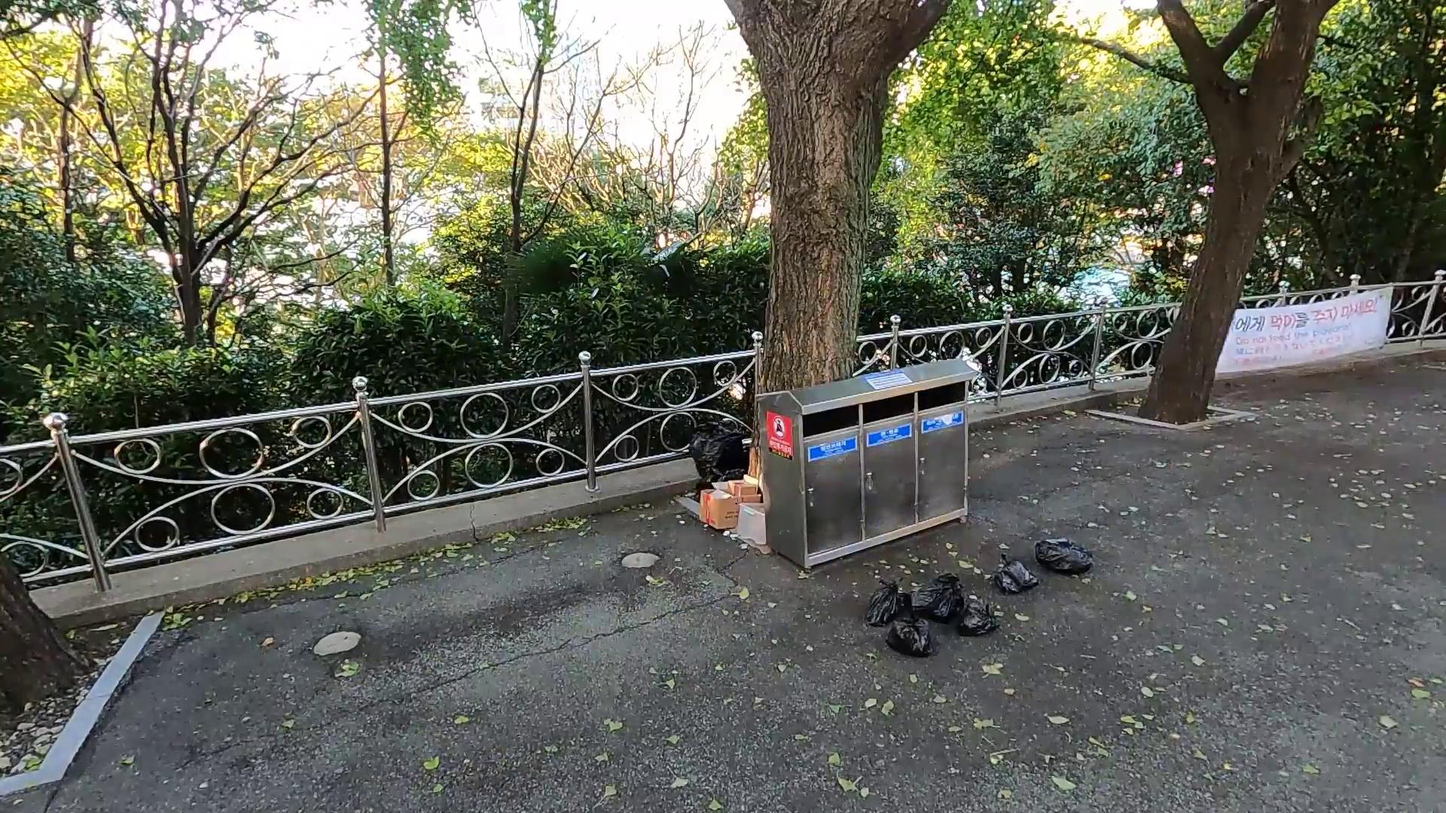trash: (692, 420, 747, 501), (694, 481, 762, 532), (906, 574, 965, 625), (1035, 533, 1097, 576), (988, 551, 1041, 596), (867, 577, 912, 629), (947, 596, 1004, 636), (886, 614, 937, 658), (736, 497, 767, 545), (716, 472, 760, 498)
